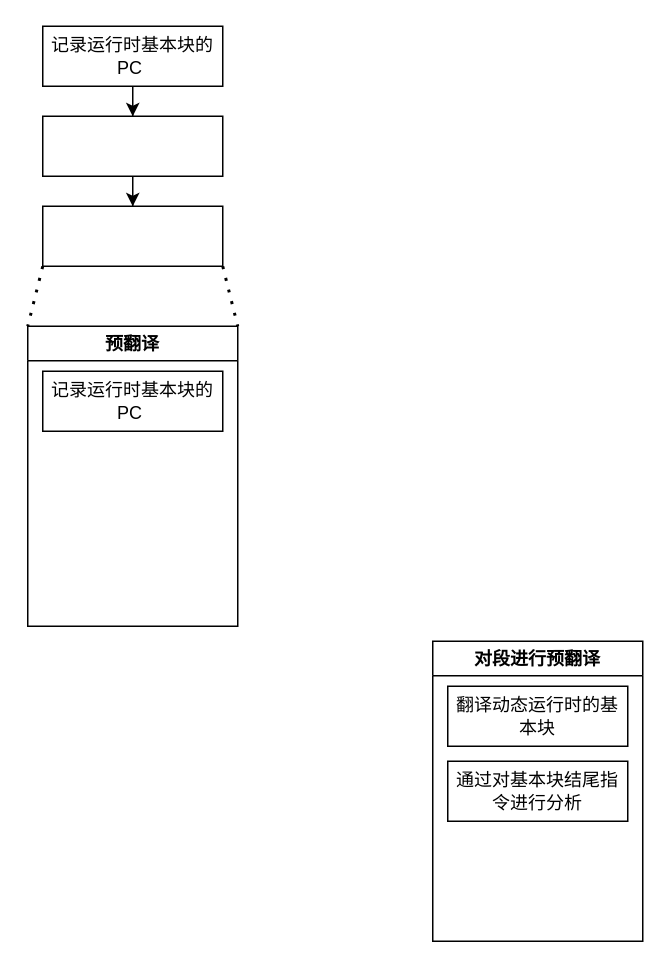
Some shapes in this 669 by 968 pixel diagram are drawn without their labels. Here are the shapes that lost their labels. From the top down, the centre of each, then its label:
At (x=132, y=145): "记录段信息".
At (x=132, y=235): "对ELF文件进行预翻译".
